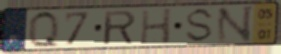7: (63, 10, 93, 47)
H: (139, 7, 174, 45)
N: (215, 4, 256, 45)
Q: (27, 9, 62, 49)
R: (103, 9, 138, 46)
S: (183, 7, 217, 44)
